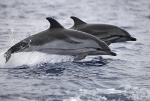fish: (2, 14, 115, 65), (67, 16, 137, 46)
